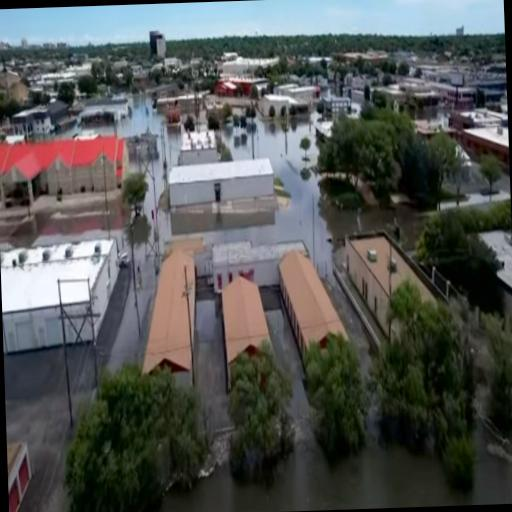flood: (154, 286, 512, 512), (211, 122, 373, 375), (216, 109, 332, 276), (3, 344, 70, 512), (120, 91, 183, 249), (97, 244, 155, 370), (195, 278, 229, 431), (66, 344, 93, 417)
house: (342, 225, 455, 362), (0, 229, 121, 352), (0, 133, 131, 215), (275, 248, 353, 376), (138, 250, 204, 386), (210, 234, 314, 300), (216, 272, 276, 380), (168, 158, 278, 210), (478, 212, 512, 339), (462, 120, 510, 178), (6, 435, 35, 512), (81, 96, 131, 130), (322, 88, 354, 125), (256, 92, 290, 126), (146, 24, 168, 60)
